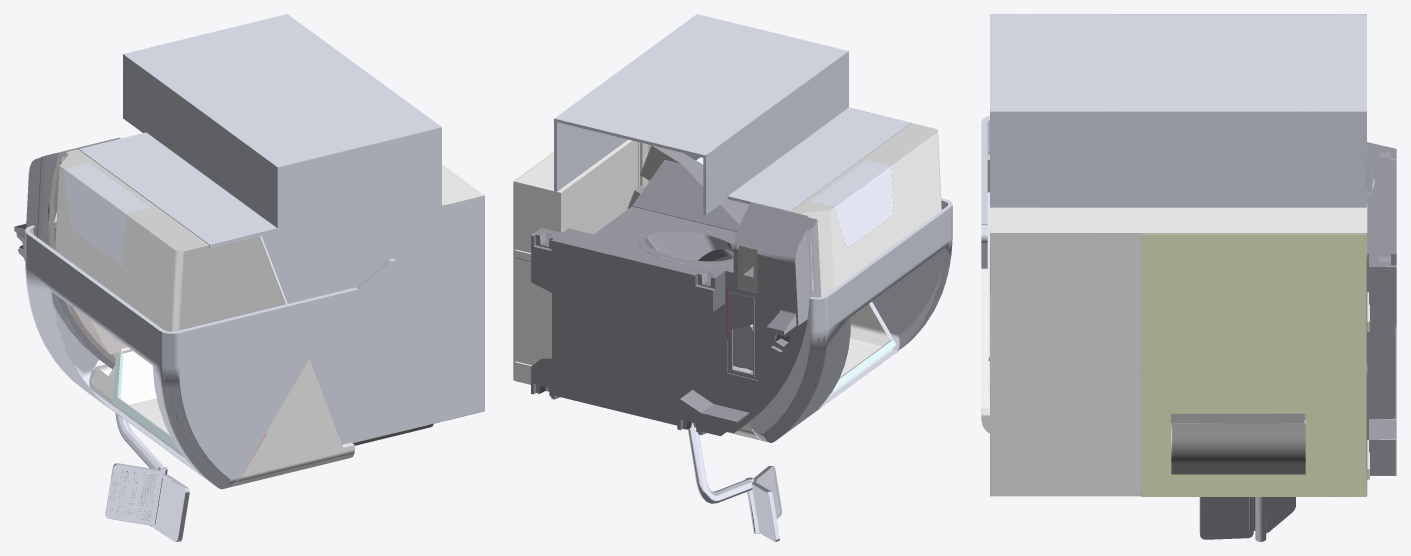
The model's file is DMU80.obj.
The picture shows the model from 3 angles, left to right: view 1: azimuth 30°, elevation 25°; view 2: azimuth 150°, elevation 25°; view 3: azimuth 270°, elevation 25°; orthographic projection. The views are drawn at different scales.
Visible parts, largest first — view 1: Solid1; view 2: Solid1; view 3: Solid1.
Boxes of the visible parts, x1=… form: Solid1: x1=14, y1=14, x2=484, y2=541; Solid1: x1=513, y1=14, x2=952, y2=541; Solid1: x1=981, y1=14, x2=1396, y2=541.
Bounding box in the file's own units: 3.41 × 4.15 × 2.93.
